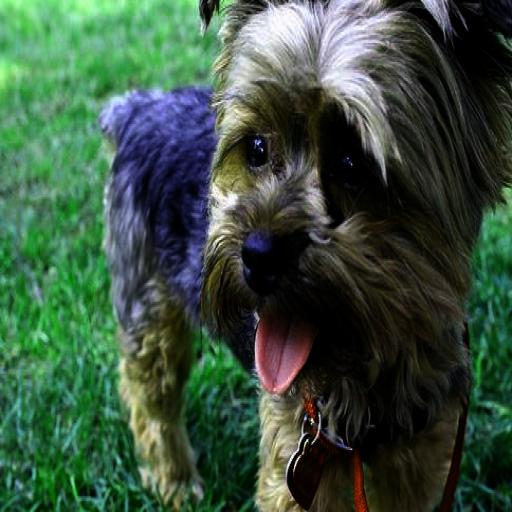dog_face: (195, 0, 480, 407)
